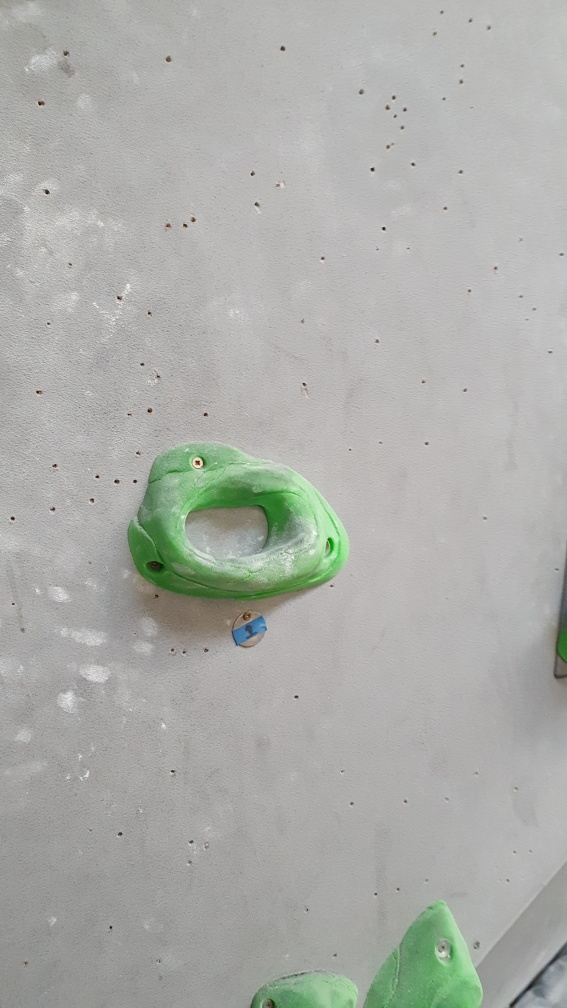Hand Start: (227, 608, 273, 655)
Pocket: (123, 438, 352, 607)
